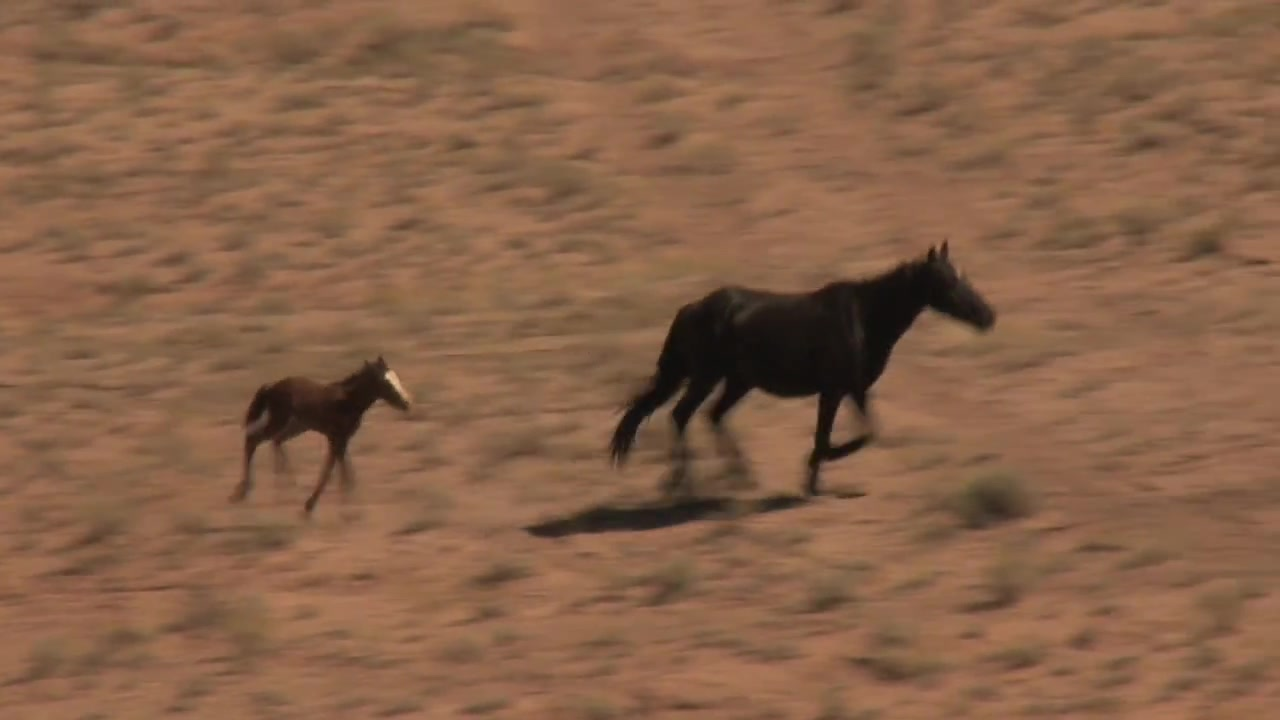horse: (608, 241, 997, 501), (225, 357, 418, 516)
